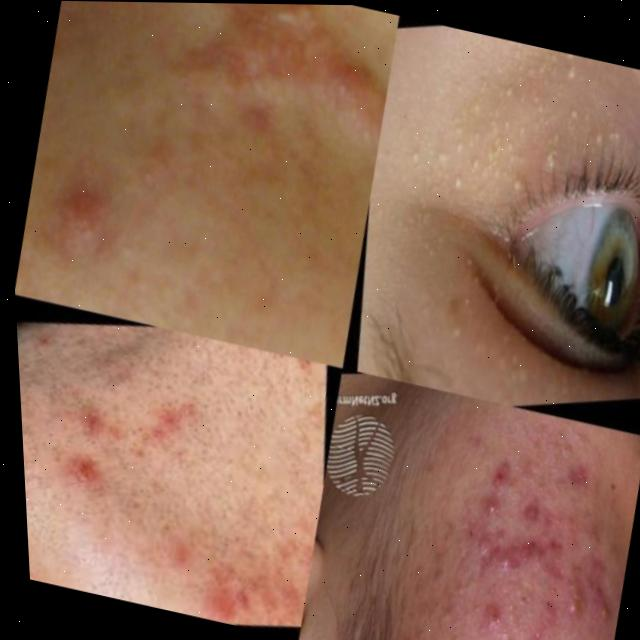Acne: (60, 1, 384, 278), (18, 345, 327, 615), (399, 36, 590, 379), (398, 431, 640, 640)
